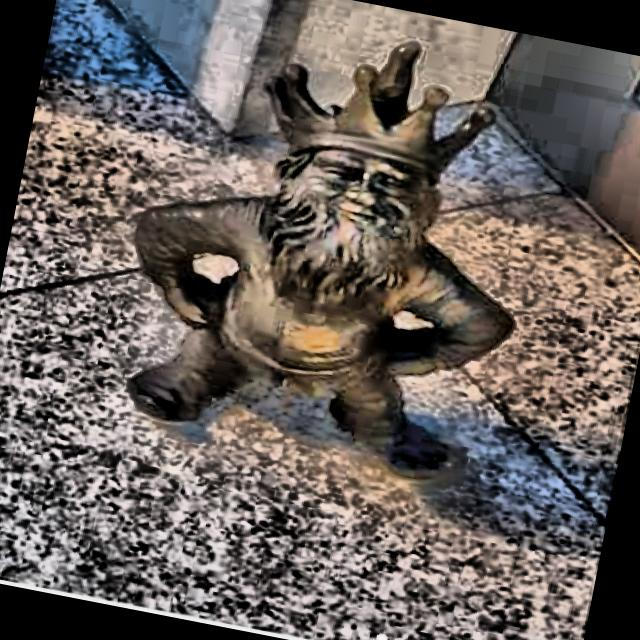Koronus: (127, 42, 515, 482)
